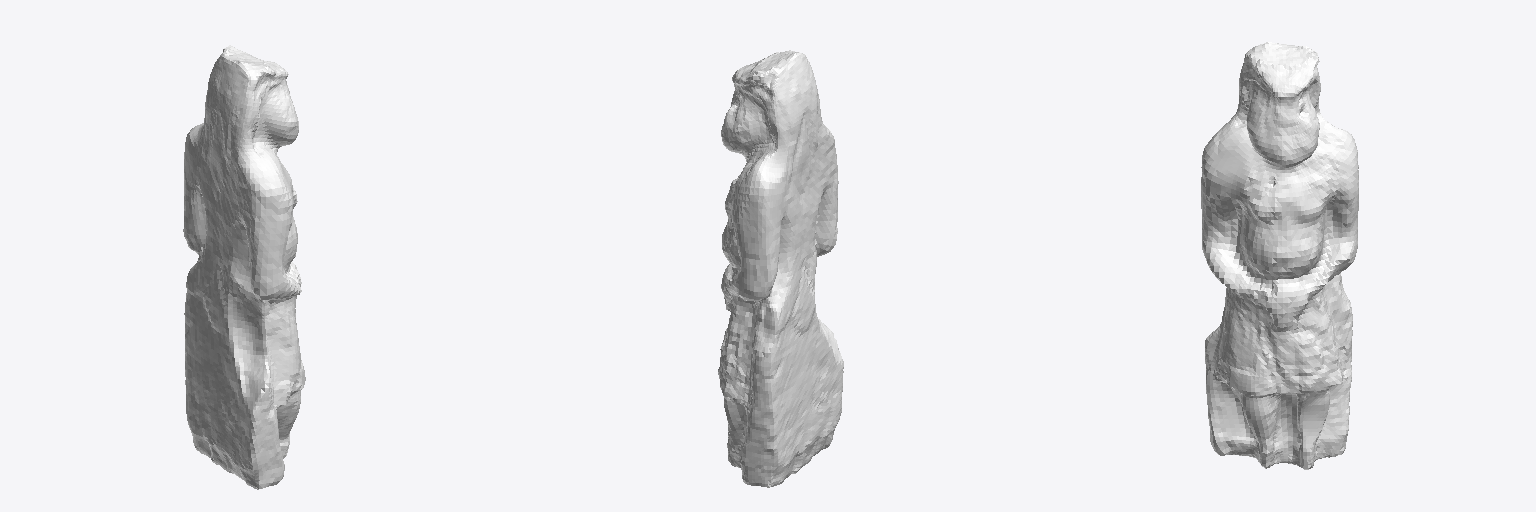
The model's file is statue.obj.
3 views of the same model, side by side, from view 1: azimuth 30°, elevation 25°; view 2: azimuth 150°, elevation 25°; view 3: azimuth 270°, elevation 25° (orthographic).
Visible parts, largest first — view 1: Acient_Statue_02; view 2: Acient_Statue_02; view 3: Acient_Statue_02.
Boxes of the visible parts, box(x1,y1,x2,y2) form: Acient_Statue_02: box(183, 45, 305, 489); Acient_Statue_02: box(718, 50, 843, 487); Acient_Statue_02: box(1201, 42, 1358, 469).
Bounding box in the file's own units: 0.7974 × 3.73 × 1.31.